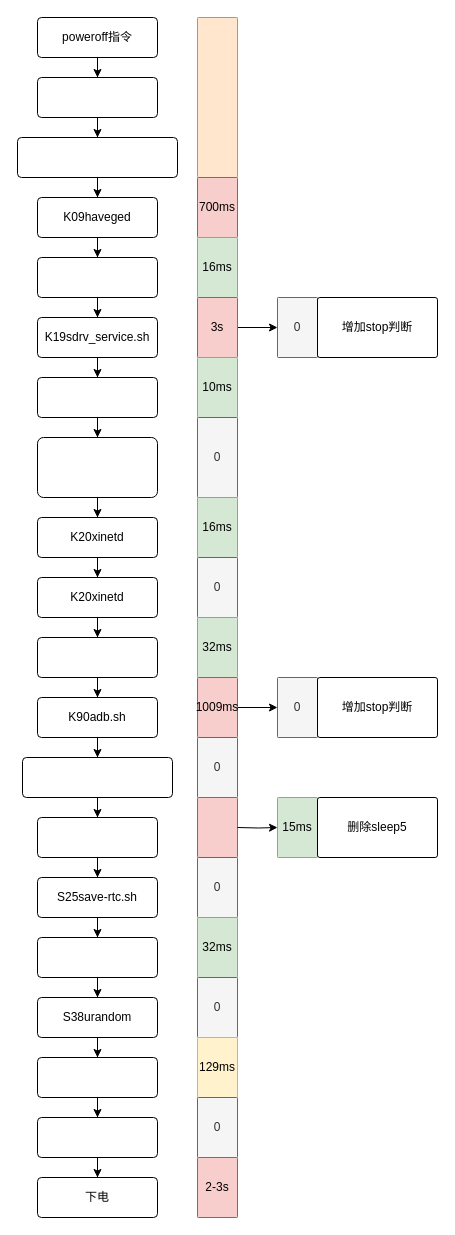
Image size: 455x1235. Some labels were removed from this diagram. Each missing label, with the centre of its shape:
300ms: (217,97)
5020ms: (217,827)
K09sshd: (97,277)
K20dbus-1: (97,397)
K20hwclock.sh K20psplash.sh K20syslog: (97,467)
K80networking: (97,657)
K99ota_mark_success.sh: (97,777)
S20sendsigs: (97,837)
S31umountnfs.sh: (97,957)
S40umountfs: (97,1077)
S90halt: (97,1137)
切换runlevel = 0: (97,97)
运行/etc/rc0.d/的关机脚本: (97,157)
